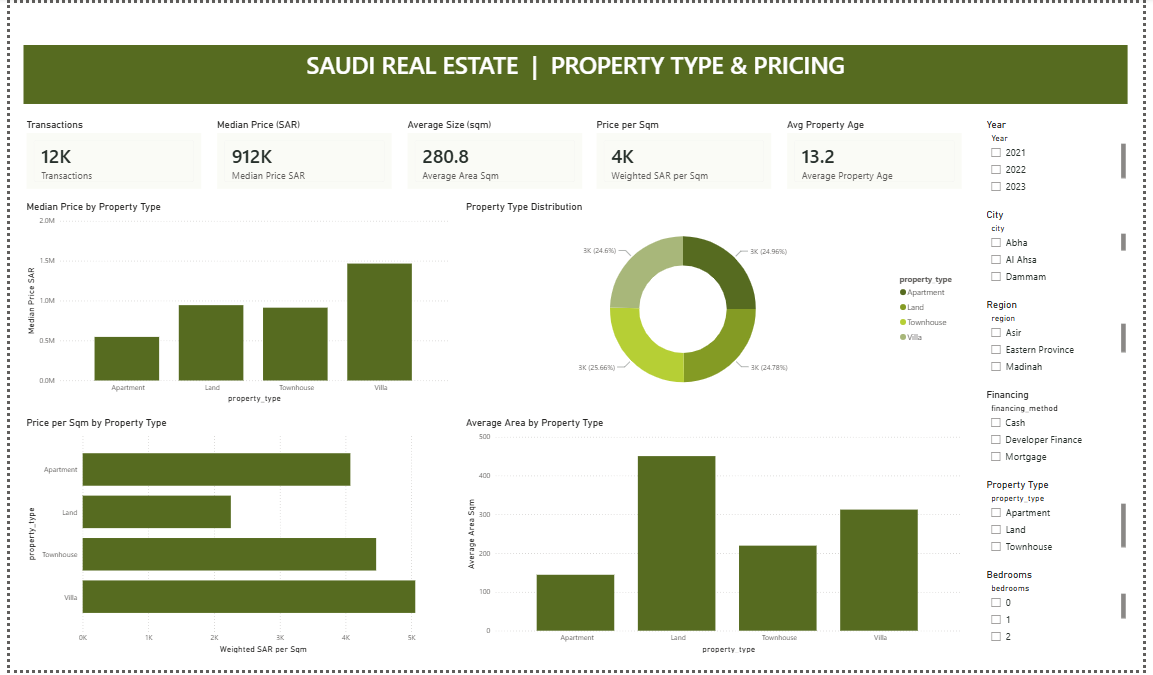

This screenshot's page, from the dashboard's own definition file:
{"tool":"powerbi","page":{"name":"02 | Property Type Analysis","canvas":[1920,1080],"ordinal":1},"visuals":[{"type":"cardVisual","title":"Transactions","fields":{"Data":["Transactions.Transactions"]},"box":[24,144,306,125],"z":1000},{"type":"cardVisual","title":"Median Price (SAR)","fields":{"Data":["Transactions.Median Price SAR"]},"box":[346,144,306,125],"z":1000},{"type":"cardVisual","title":"Average Size (sqm)","fields":{"Data":["Transactions.Average Area Sqm"]},"box":[668,144,306,125],"z":1000},{"type":"cardVisual","title":"Price per Sqm","fields":{"Data":["Transactions.Weighted SAR per Sqm"]},"box":[990,144,306,125],"z":1000},{"type":"cardVisual","title":"Avg Property Age","fields":{"Data":["Transactions.Average Property Age"]},"box":[1312,144,306,125],"z":1000},{"type":"slicer","title":"Year","fields":{"Values":["Transactions.Year"]},"box":[1650,144,246,140],"z":1000},{"type":"clusteredColumnChart","title":"Median Price by Property Type","fields":{"Category":["Transactions.property_type"],"Y":["Transactions.Median Price SAR"]},"box":[24,285,725,347],"z":1000},{"type":"donutChart","title":"Property Type Distribution","fields":{"Category":["Transactions.property_type"],"Y":["Transactions.Transactions"]},"box":[768,285,850,347],"z":1000},{"type":"slicer","title":"City","fields":{"Values":["Transactions.city"]},"box":[1650,297,246,140],"z":1000},{"type":"slicer","title":"Region","fields":{"Values":["Transactions.region"]},"box":[1650,450,246,140],"z":1000},{"type":"slicer","title":"Financing","fields":{"Values":["Transactions.financing_method"]},"box":[1650,603,246,140],"z":1000},{"type":"clusteredBarChart","title":"Price per Sqm by Property Type","fields":{"Category":["Transactions.property_type"],"Y":["Transactions.Weighted SAR per Sqm"]},"box":[24,650,725,405],"z":1000},{"type":"clusteredColumnChart","title":"Average Area by Property Type","fields":{"Category":["Transactions.property_type"],"Y":["Transactions.Average Area Sqm"]},"box":[768,650,850,405],"z":1000},{"type":"slicer","title":"Property Type","fields":{"Values":["Transactions.property_type"]},"box":[1650,756,246,140],"z":1000},{"type":"slicer","title":"Bedrooms","fields":{"Values":["Transactions.bedrooms"]},"box":[1650,909,246,140],"z":1000},{"type":"textbox","box":[24,20,1872,100],"z":2000}]}

Visuals, with their boxes on the page's 1920x1080 design canvas (x1, y1, x2, y2). These are canvas units, not pixel positions in the 1153x675 screenshot, which may show the page scaled, cropped or inside an application window:
"Transactions" cardVisual: select_region(24, 144, 330, 269)
"Median Price (SAR)" cardVisual: select_region(346, 144, 652, 269)
"Average Size (sqm)" cardVisual: select_region(668, 144, 974, 269)
"Price per Sqm" cardVisual: select_region(990, 144, 1296, 269)
"Avg Property Age" cardVisual: select_region(1312, 144, 1618, 269)
"Year" slicer: select_region(1650, 144, 1896, 284)
"Median Price by Property Type" clusteredColumnChart: select_region(24, 285, 749, 632)
"Property Type Distribution" donutChart: select_region(768, 285, 1618, 632)
"City" slicer: select_region(1650, 297, 1896, 437)
"Region" slicer: select_region(1650, 450, 1896, 590)
"Financing" slicer: select_region(1650, 603, 1896, 743)
"Price per Sqm by Property Type" clusteredBarChart: select_region(24, 650, 749, 1055)
"Average Area by Property Type" clusteredColumnChart: select_region(768, 650, 1618, 1055)
"Property Type" slicer: select_region(1650, 756, 1896, 896)
"Bedrooms" slicer: select_region(1650, 909, 1896, 1049)
textbox: select_region(24, 20, 1896, 120)
